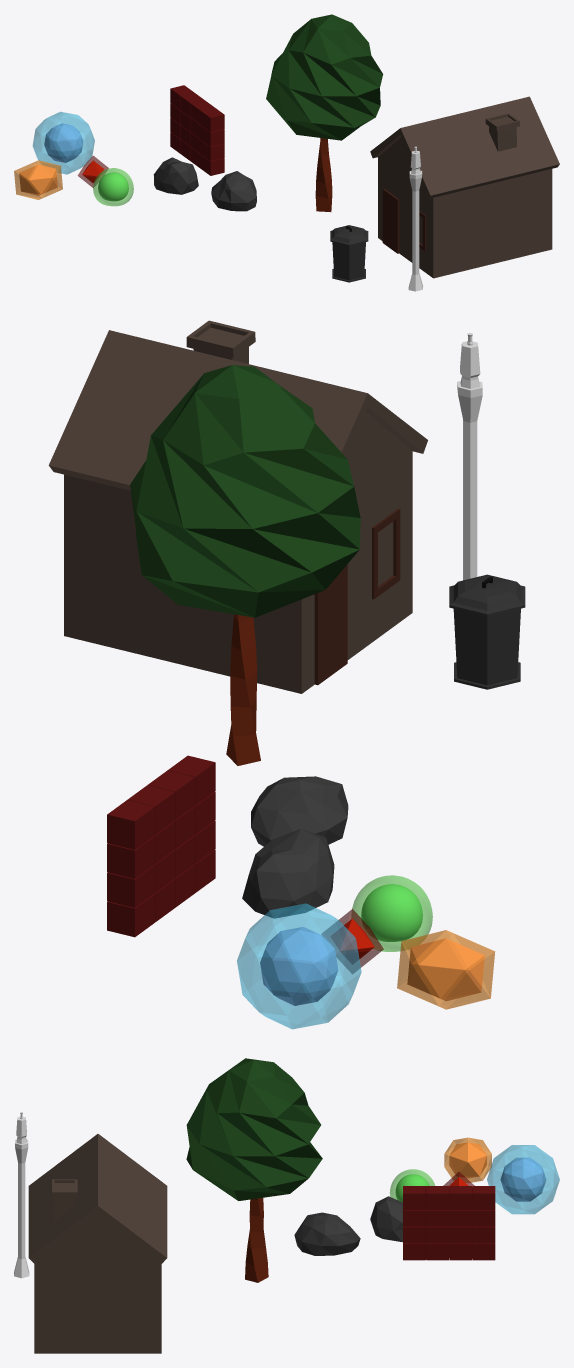
The model's file is Michael.FBX.
3 renders of one model, top to bottom at view 1: azimuth 30°, elevation 25°; view 2: azimuth 150°, elevation 25°; view 3: azimuth 270°, elevation 25°, orthographic. The views are drawn at different scales.
Visible parts, largest first — view 1: Box004, GeoSphere003, Brick_Wall, GeoSphere001, Cylinder002, GeoSphere005, Rock_1, Cylinder001, Rock_2, Box001, GeoSphere002, Box003 (+3 smaller); view 2: Box004, GeoSphere003, Brick_Wall, GeoSphere001, Cylinder002, Rock_2, GeoSphere005, Rock_1, GeoSphere002, Box001, Cylinder001, Box003 (+4 smaller); view 3: Box004, GeoSphere003, Brick_Wall, GeoSphere001, Rock_1, GeoSphere005, GeoSphere002, Cylinder001, Box003, Rock_2, GeoSphere004, Box001 (+1 smaller).
Part boxes in pixels (x1,y1,x2,y2): Box004: (370,96,559,278); GeoSphere003: (266,14,383,140); Brick_Wall: (170,85,224,175); GeoSphere001: (32,111,94,174); Cylinder002: (330,225,368,282); GeoSphere005: (14,160,62,199); Rock_1: (211,171,256,211); Cylinder001: (408,146,423,291); Rock_2: (153,157,198,194); Box001: (93,168,133,206); GeoSphere002: (44,123,83,162); Box003: (315,138,332,211); Box004: (48,320,427,693); GeoSphere003: (130,365,360,617); Brick_Wall: (107,755,215,937); GeoSphere001: (237,903,361,1029); Cylinder002: (449,574,525,689); Rock_2: (242,828,334,918); GeoSphere005: (397,930,495,1009); Rock_1: (251,776,348,846); GeoSphere002: (260,927,338,1005); Box001: (351,875,432,951); Cylinder001: (457,333,482,580); Box003: (226,614,260,765); Box004: (28,1134,167,1353); GeoSphere003: (186,1058,322,1200); Brick_Wall: (403,1186,495,1260); GeoSphere001: (487,1145,559,1214); Rock_1: (294,1212,360,1255); GeoSphere005: (444,1137,491,1182); GeoSphere002: (500,1157,546,1201); Cylinder001: (14,1112,29,1278); Box003: (245,1198,268,1282); Rock_2: (370,1196,402,1242); GeoSphere004: (449,1142,486,1178); Box001: (390,1169,435,1202).
Bounding box in the file's own units: 596 × 335 × 698.
